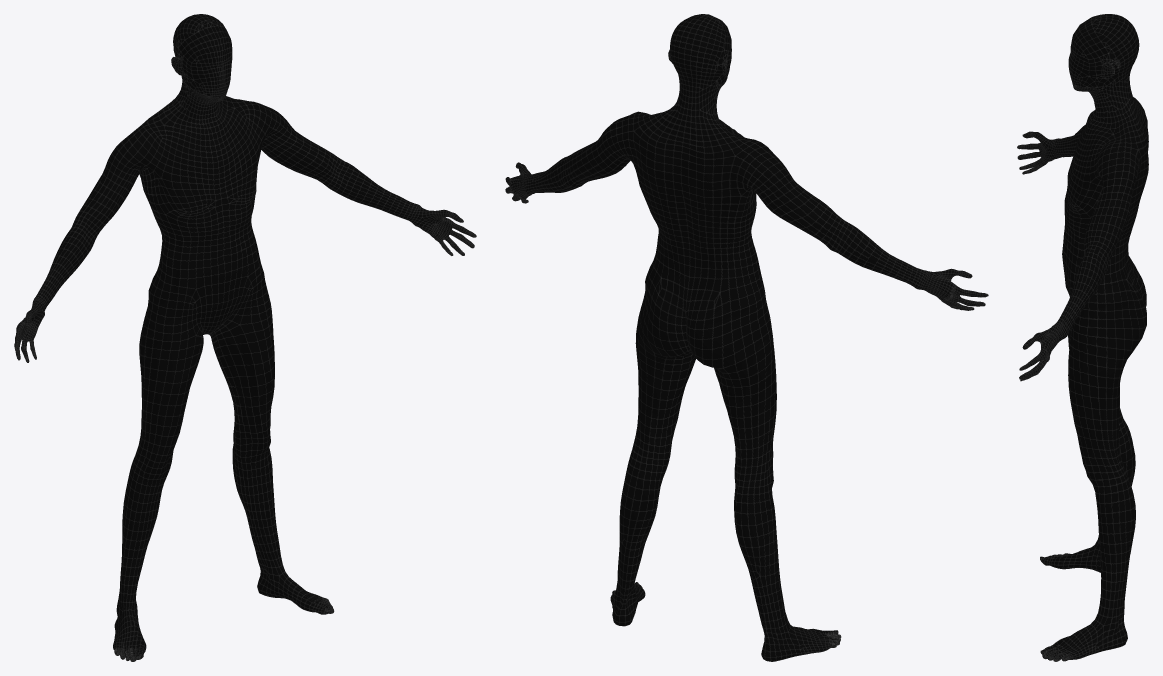
File: Avatar.glb
3 views of the same model, side by side, from view 1: azimuth 30°, elevation 25°; view 2: azimuth 150°, elevation 25°; view 3: azimuth 270°, elevation 25° (orthographic). The views are drawn at different scales.
Parts seen in each view (by area): view 1: Body, Chest, Abs, OuterThigh_R, InnerThigh_L, UpperArm_R, OuterThigh_L, Flank_R, LowerArm_L, Pubic, LowerArm_R, UpperArm_L (+2 smaller); view 2: Body, LowerBack, UpperBack, Midback, UpperArm_R, OuterThigh_R, InnerThigh_L, Flank_R, UpperArm_L, BananaRoll_R, OuterThigh_L, BananaRoll_L (+2 smaller); view 3: Body, OuterThigh_L, UpperArm_L, Chest, Flank_L, LowerBack, Abs, BananaRoll_L, UpperBack, Midback, NeckChin, Armpit_L.
Part boxes in pixels (x1,y1,x2,y2): Body: (14,14,476,661); Chest: (161,119,260,211); Abs: (177,202,261,303); OuterThigh_R: (139,335,195,455); InnerThigh_L: (216,325,262,433); UpperArm_R: (74,132,148,225); OuterThigh_L: (240,311,274,431); Flank_R: (148,206,183,301); LowerArm_L: (261,132,334,182); Pubic: (200,287,243,332); LowerArm_R: (89,168,139,235); UpperArm_L: (261,104,337,165); Body: (505,14,988,661); LowerBack: (646,236,740,320); UpperBack: (628,122,748,197); Midback: (636,171,740,254); UpperArm_R: (737,146,841,242); OuterThigh_R: (734,337,776,467); InnerThigh_L: (648,363,694,446); Flank_R: (733,211,764,308); UpperArm_L: (567,115,629,179); BananaRoll_R: (714,342,771,387); OuterThigh_L: (636,354,654,444); BananaRoll_L: (635,319,696,371); Body: (1017,14,1146,661); OuterThigh_L: (1068,336,1120,458); UpperArm_L: (1088,151,1139,260); Chest: (1067,126,1098,206); Flank_L: (1073,218,1121,303); LowerBack: (1115,238,1142,301); Abs: (1062,197,1081,295); BananaRoll_L: (1097,346,1132,378); UpperBack: (1130,116,1148,189); Midback: (1116,181,1145,247); NeckChin: (1076,87,1109,112); Armpit_L: (1088,160,1102,208).
Size of the model in its own units: 1.32 by 1.63 by 0.3263.
1 material, 1 textured.
